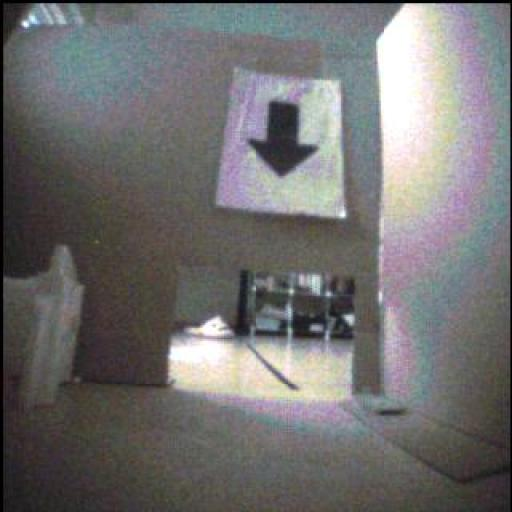arrow: (249, 102, 319, 179)
